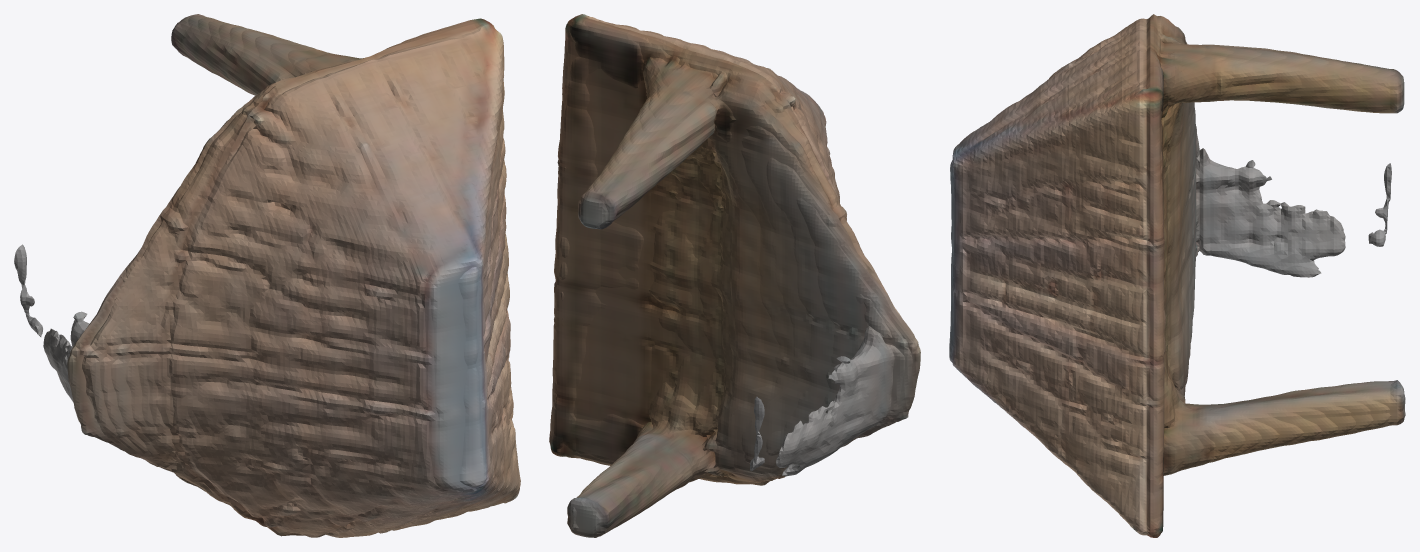
3 views of the same model, side by side, from view 1: azimuth 30°, elevation 25°; view 2: azimuth 150°, elevation 25°; view 3: azimuth 270°, elevation 25° (orthographic). The views are drawn at different scales.
Visible parts, largest first — view 1: world; view 2: world; view 3: world.
Part boxes in pixels (x1,y1,x2,y2): world: [14, 14, 520, 537]; world: [549, 14, 920, 537]; world: [949, 14, 1405, 537].
Size of the model in its own units: 0.8575 by 0.9351 by 0.8822.
